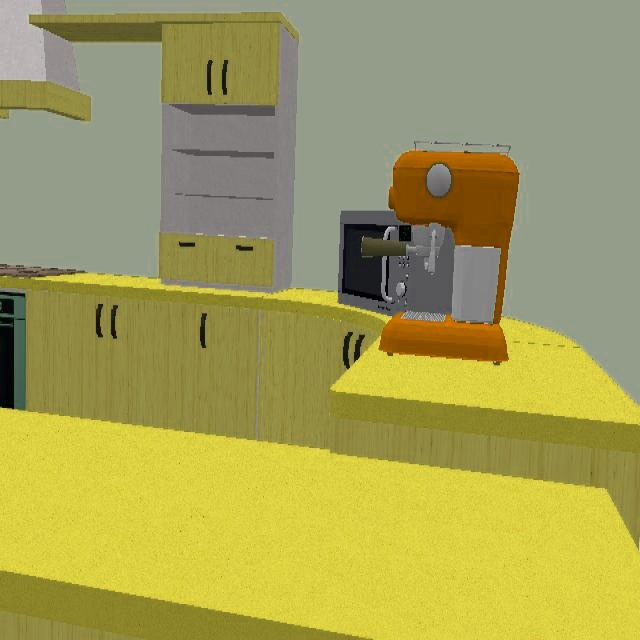cabinet: (26, 290, 639, 539), (160, 22, 298, 291)
countertop: (0, 412, 640, 638), (330, 320, 640, 453), (0, 275, 384, 333)
microwave: (339, 210, 455, 314)
shelf: (30, 12, 299, 42)
stove: (0, 264, 85, 278)
